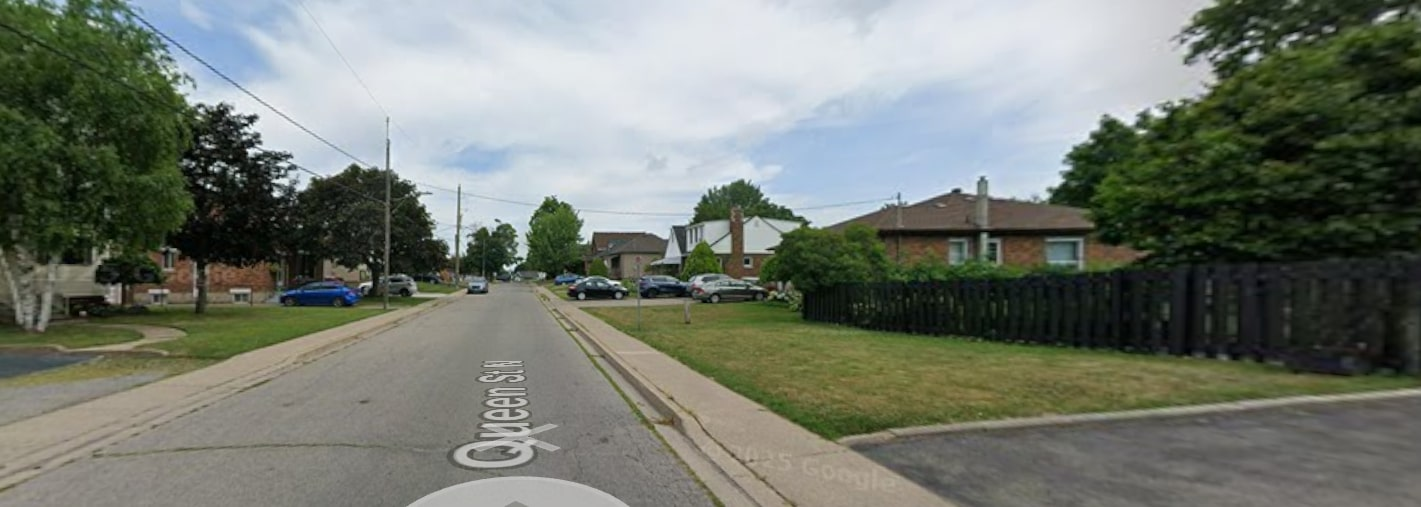cracks: (68, 432, 450, 468)
